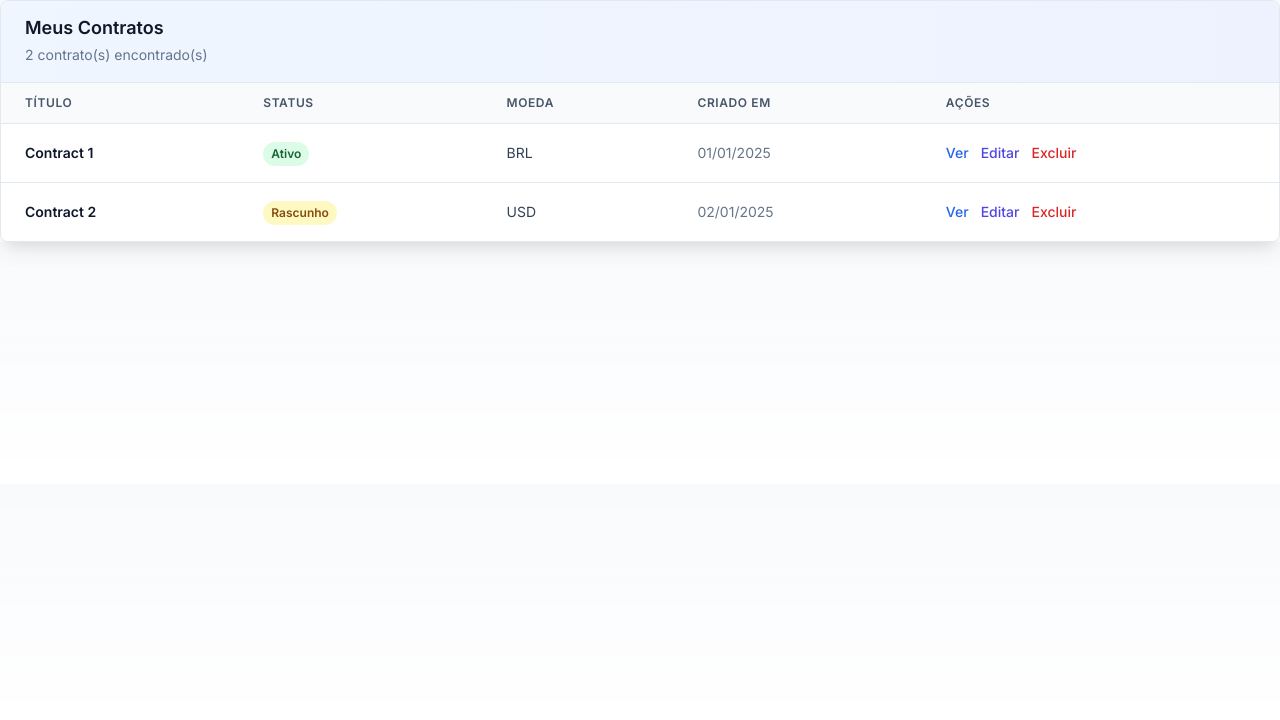
Scenario: ContractList › shows delete confirmation modal when delete button is clicked
Click the button "Excluir" in the row of "Contract 1": (1054, 153) [1032,143,1076,163]
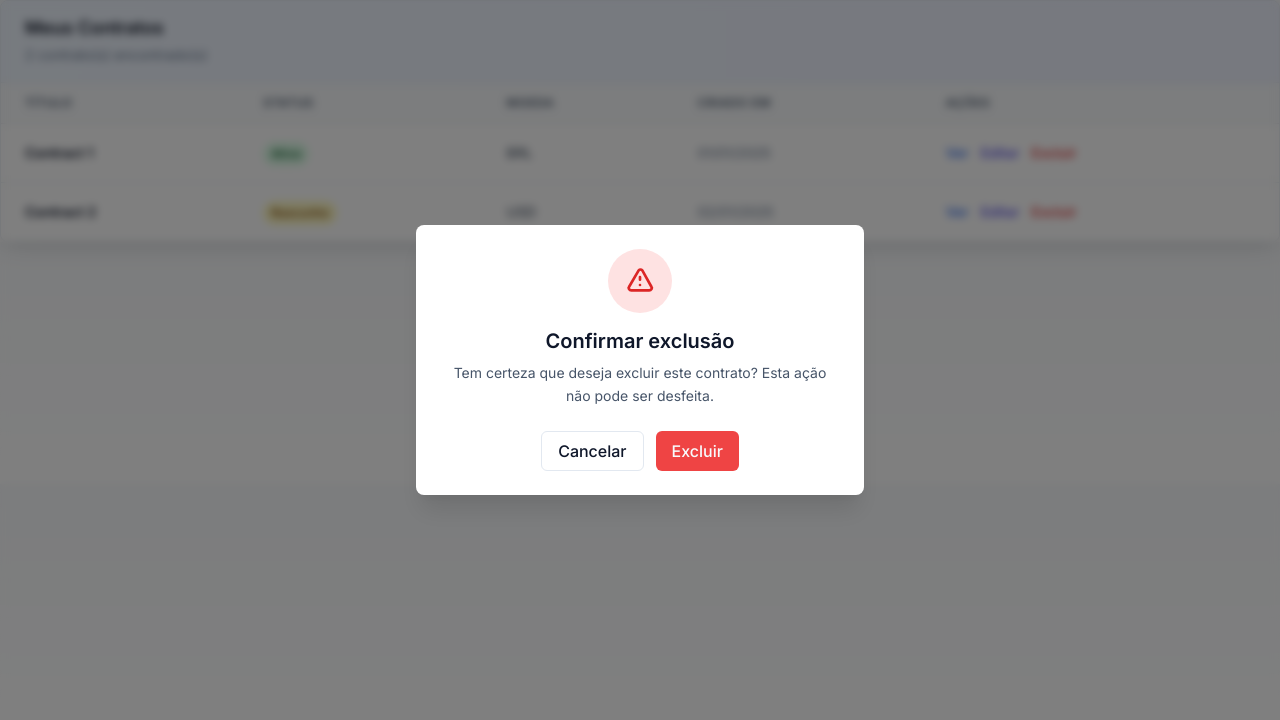
Now the heading "Confirmar exclusão" is shown, box [546,329,734,353]
Now the text "Tem certeza que deseja excluir este contrato? Esta ação não pode ser desfeita." is shown, box [440,362,840,407]
